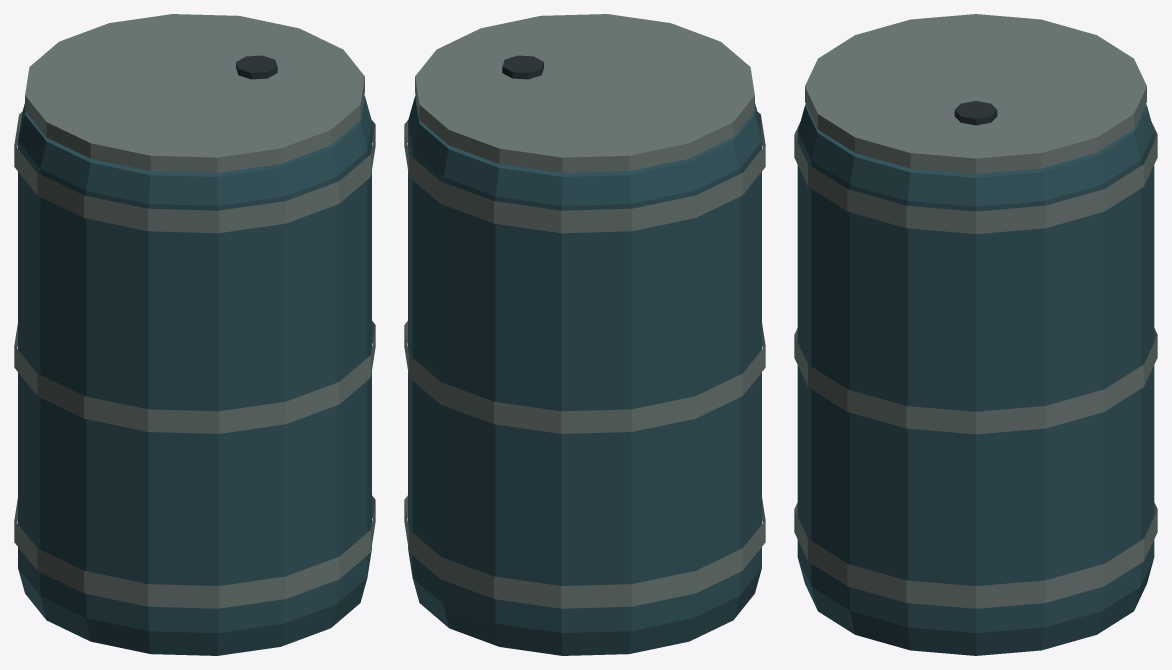
3 views of the same model, side by side, from view 1: azimuth 30°, elevation 25°; view 2: azimuth 150°, elevation 25°; view 3: azimuth 270°, elevation 25° (orthographic).
Visible parts, largest first — view 1: a91; view 2: a91; view 3: a91.
Part boxes in pixels (bbox=[...]): a91: bbox=[14, 14, 375, 655]; a91: bbox=[404, 14, 765, 655]; a91: bbox=[794, 14, 1157, 655].
Size of the model in its own units: 0.51 by 0.78 by 0.51.
